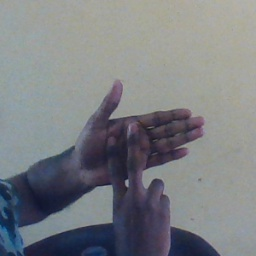N: (67, 73, 208, 230)
